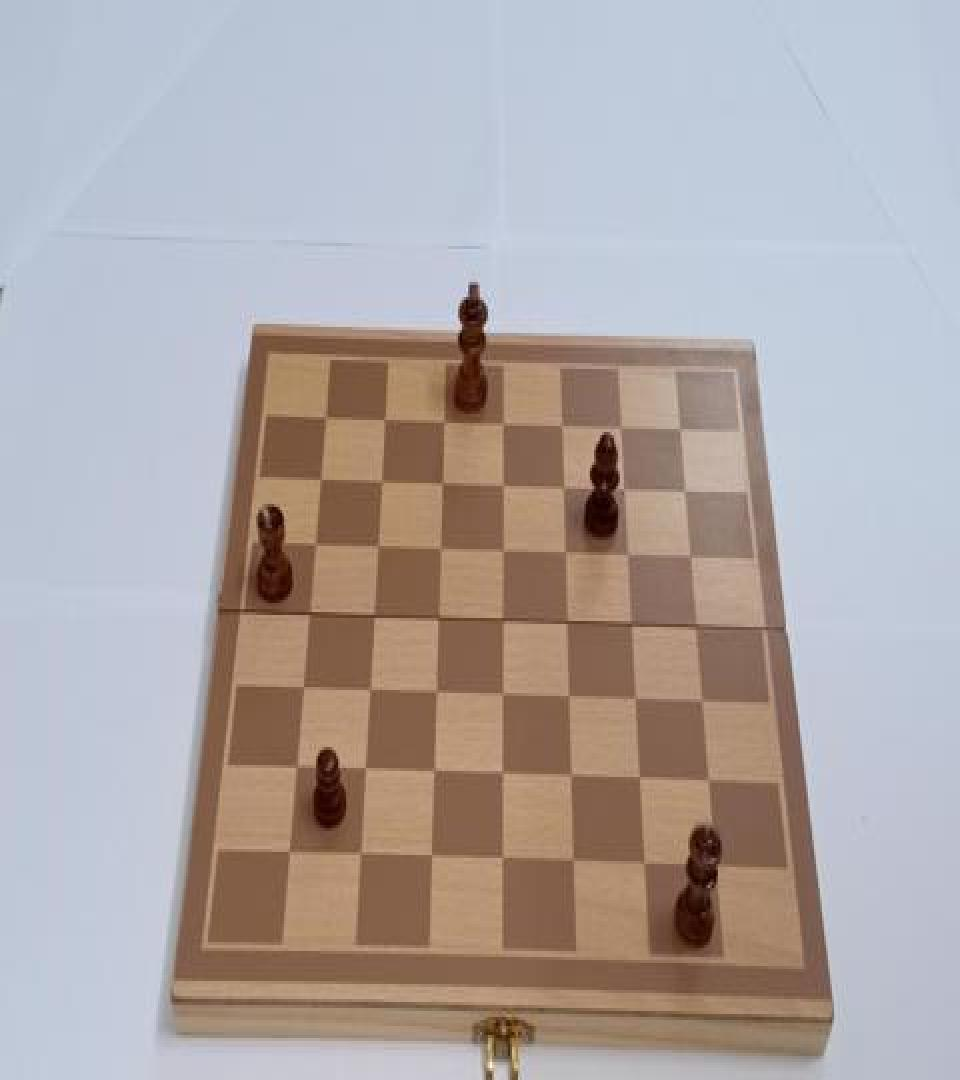xcorner: (315, 400, 333, 428), (433, 466, 451, 494), (494, 406, 512, 434), (494, 760, 512, 788), (310, 462, 328, 489), (304, 528, 322, 555), (298, 598, 316, 625), (285, 753, 303, 780), (278, 837, 296, 864), (375, 402, 393, 429), (371, 465, 389, 492), (367, 531, 385, 558), (359, 675, 377, 702), (355, 755, 373, 782), (350, 840, 368, 867), (434, 405, 452, 432), (431, 532, 449, 559), (429, 603, 447, 630), (426, 678, 444, 705), (422, 843, 440, 870), (494, 470, 512, 497), (494, 606, 512, 633), (494, 681, 512, 708), (494, 846, 512, 873), (555, 471, 573, 498), (557, 538, 575, 565), (559, 609, 577, 636), (561, 684, 579, 711), (566, 849, 584, 876), (613, 411, 631, 438), (617, 474, 635, 501), (621, 540, 639, 567), (625, 610, 643, 637), (633, 766, 651, 793), (638, 852, 656, 879), (673, 414, 691, 441), (684, 543, 702, 570), (696, 689, 714, 716), (710, 855, 728, 882), (292, 674, 310, 700), (363, 602, 381, 628), (424, 758, 442, 784), (494, 536, 512, 562), (554, 410, 572, 436), (563, 764, 581, 790), (629, 686, 647, 712), (679, 476, 697, 502), (690, 614, 708, 640), (703, 770, 721, 796)
